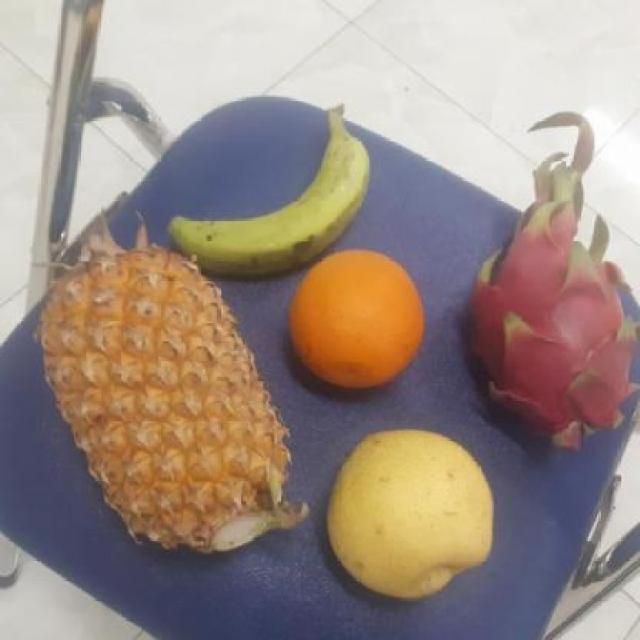banana: (161, 113, 368, 273)
dragon fruit: (461, 216, 640, 461)
oren: (280, 250, 432, 393)
pear: (317, 432, 501, 606)
pineapple: (31, 253, 298, 549)
